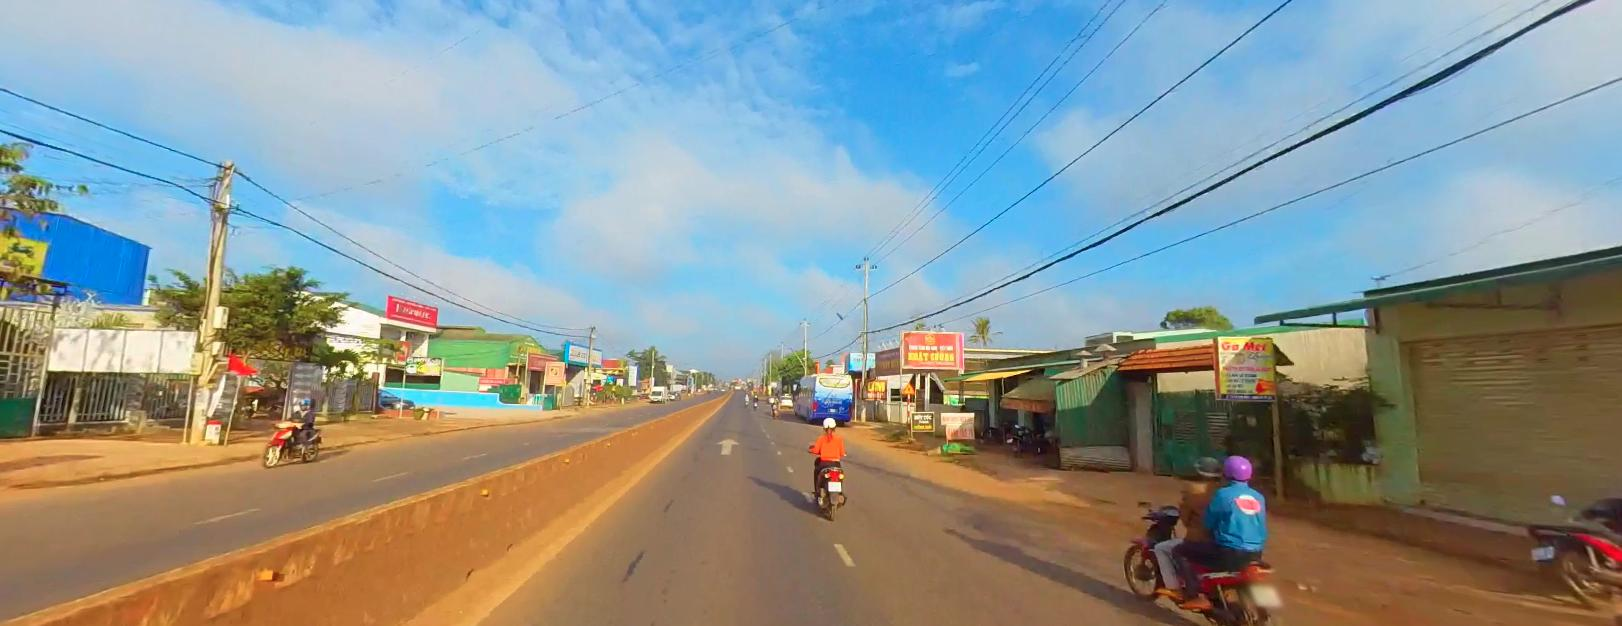Nguy hiem: (901, 380, 915, 393)
